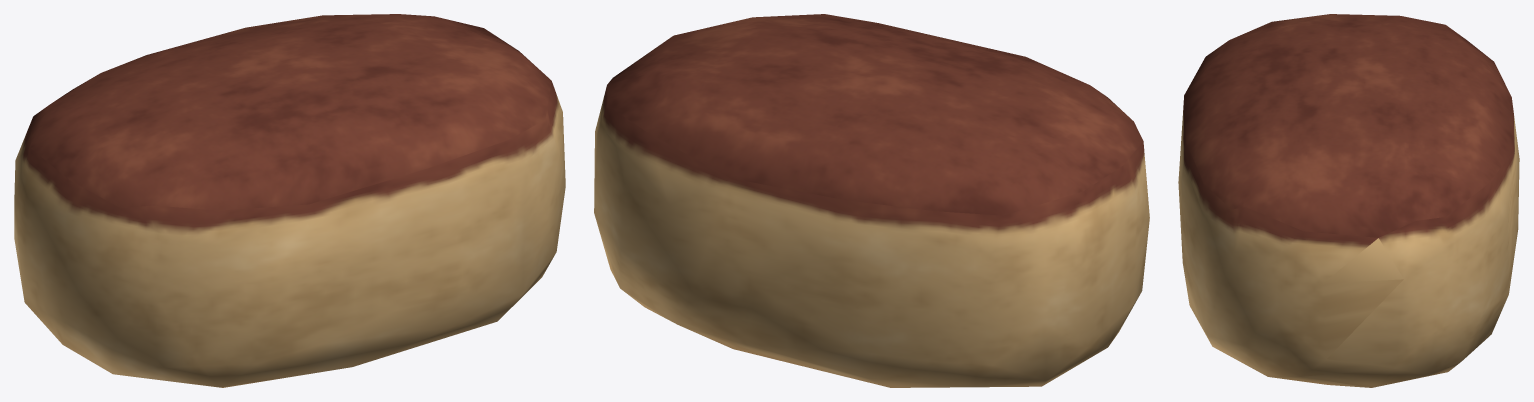
File: kurimanju_lod3.glb
3 views of the same model, side by side, from view 1: azimuth 30°, elevation 25°; view 2: azimuth 150°, elevation 25°; view 3: azimuth 270°, elevation 25° (orthographic). The views are drawn at different scales.
Visible parts, largest first — view 1: kurimanju_lod3; view 2: kurimanju_lod3; view 3: kurimanju_lod3.
Part boxes in pixels (x1,y1,x2,y2): kurimanju_lod3: [14, 14, 565, 387]; kurimanju_lod3: [594, 14, 1149, 387]; kurimanju_lod3: [1178, 14, 1519, 387].
Bounding box in the file's own units: 0.065 × 0.03 × 0.043.
1 material, 1 textured.
